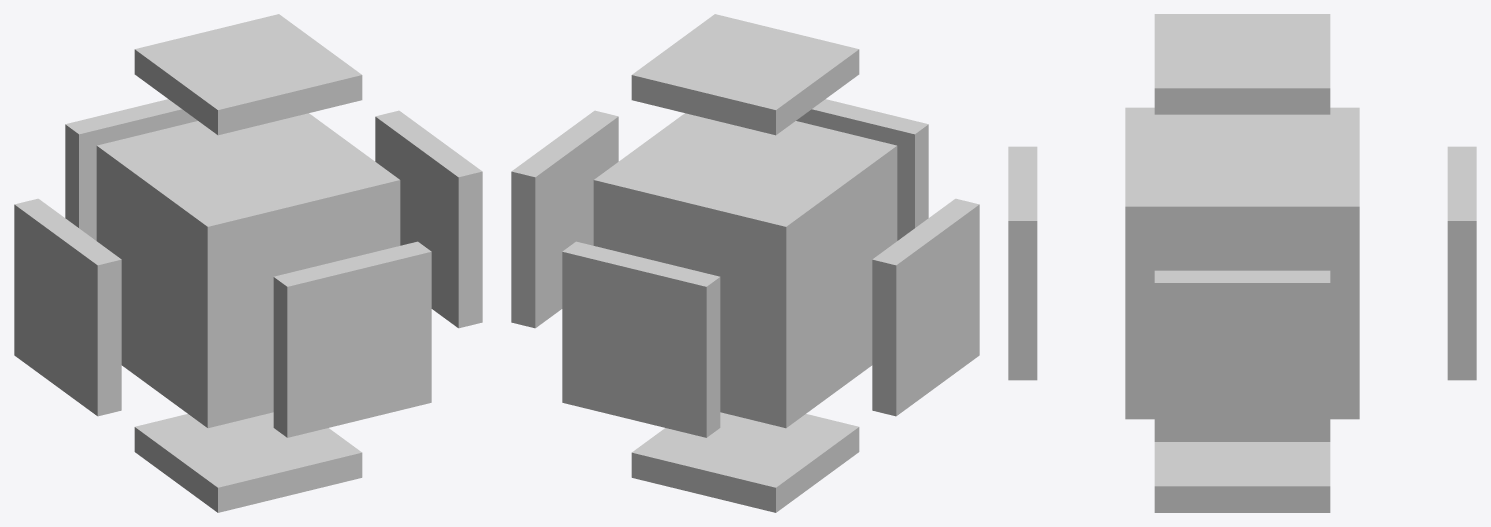
Rendered from renwujinling1.obj.
3 renders of one model, left to right at view 1: azimuth 30°, elevation 25°; view 2: azimuth 150°, elevation 25°; view 3: azimuth 270°, elevation 25°, orthographic. The views are drawn at different scales.
Visible parts, largest first — view 1: renwujinling1; view 2: renwujinling1; view 3: renwujinling1.
Boxes of the visible parts, left/top/right/bottom form: renwujinling1: left=14, top=14, right=482, bottom=512; renwujinling1: left=511, top=14, right=979, bottom=512; renwujinling1: left=1008, top=14, right=1476, bottom=512.
Size of the model in its own units: 16 by 16 by 16.
Materials: 1 (1 with a texture image).
